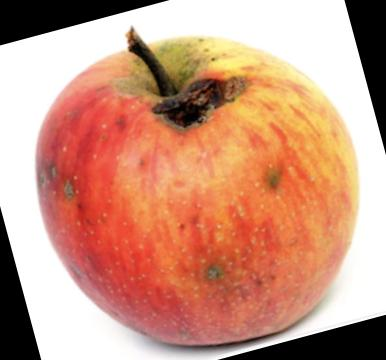Apple: (31, 36, 360, 350)
